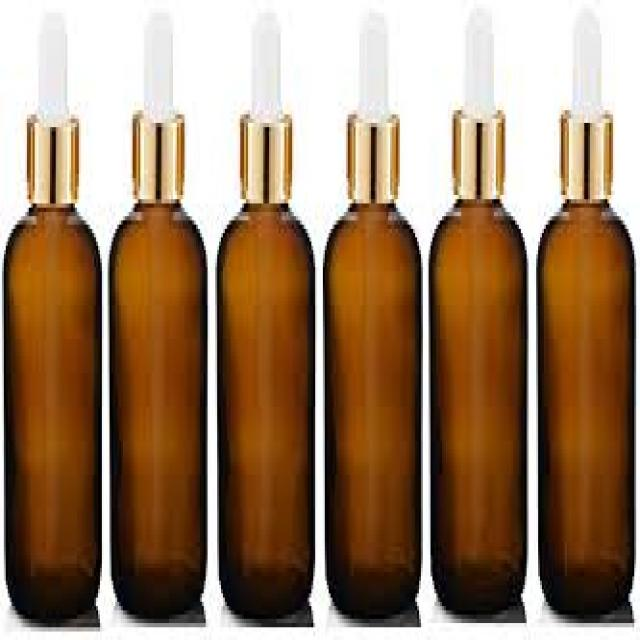Glass: (212, 103, 322, 622), (425, 100, 533, 612), (319, 108, 426, 622), (106, 107, 213, 618), (532, 104, 637, 616), (1, 113, 103, 619)
Metal: (234, 100, 296, 211), (126, 105, 190, 212), (344, 104, 402, 210), (556, 104, 617, 200), (449, 102, 507, 202), (23, 108, 80, 205)
